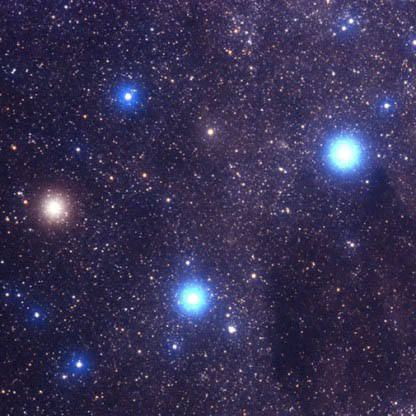Southern Cross: (312, 124, 374, 182), (167, 273, 216, 323), (31, 186, 79, 232), (107, 78, 149, 118)
